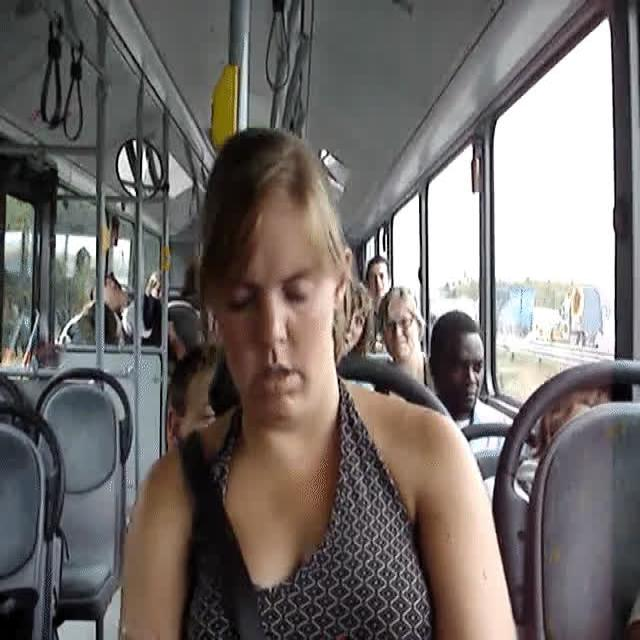no-seatbelt: (194, 127, 358, 438)
